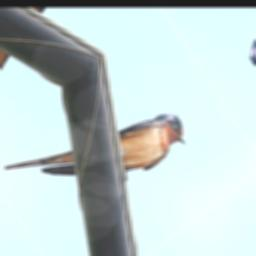Swallow: (3, 58, 193, 246)
